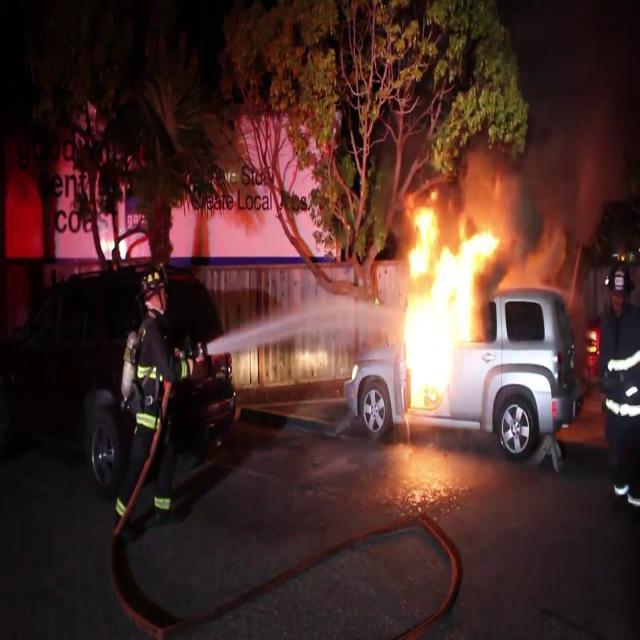Fire: (392, 199, 501, 413)
Smoke: (502, 1, 640, 272)
